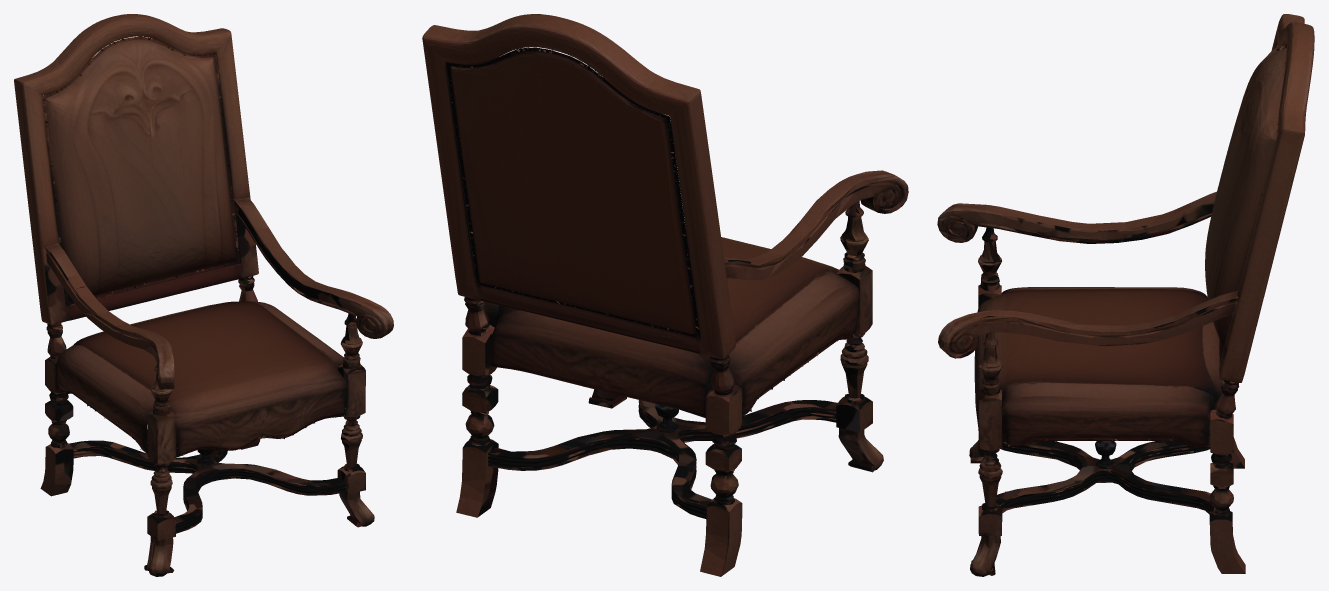
Rendered from edited_mesh.glb.
3 views of the same model, side by side, from view 1: azimuth 30°, elevation 25°; view 2: azimuth 150°, elevation 25°; view 3: azimuth 270°, elevation 25° (orthographic). The views are drawn at different scales.
Parts seen in each view (by area): view 1: solid_001_wire; view 2: solid_001_wire; view 3: solid_001_wire.
Boxes of the visible parts, x1,y1,x2,y2 form: solid_001_wire: (14,14,393,576); solid_001_wire: (422,14,908,576); solid_001_wire: (937,14,1314,576).
Bounding box in the file's own units: 0.8481 × 1.48 × 1.04.
1 material, 1 textured.
